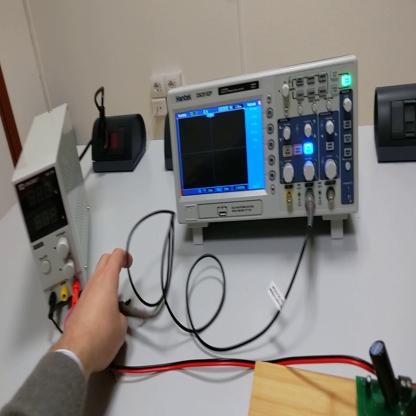hand: (64, 247, 134, 375)
high voltage board: (355, 343, 416, 416)
oscilloscope: (165, 55, 363, 244)
oscilloscope probe tip: (119, 298, 161, 322)
power supply: (13, 101, 93, 307)
socket: (89, 114, 148, 176), (162, 112, 175, 176)
working area: (250, 363, 358, 415)
